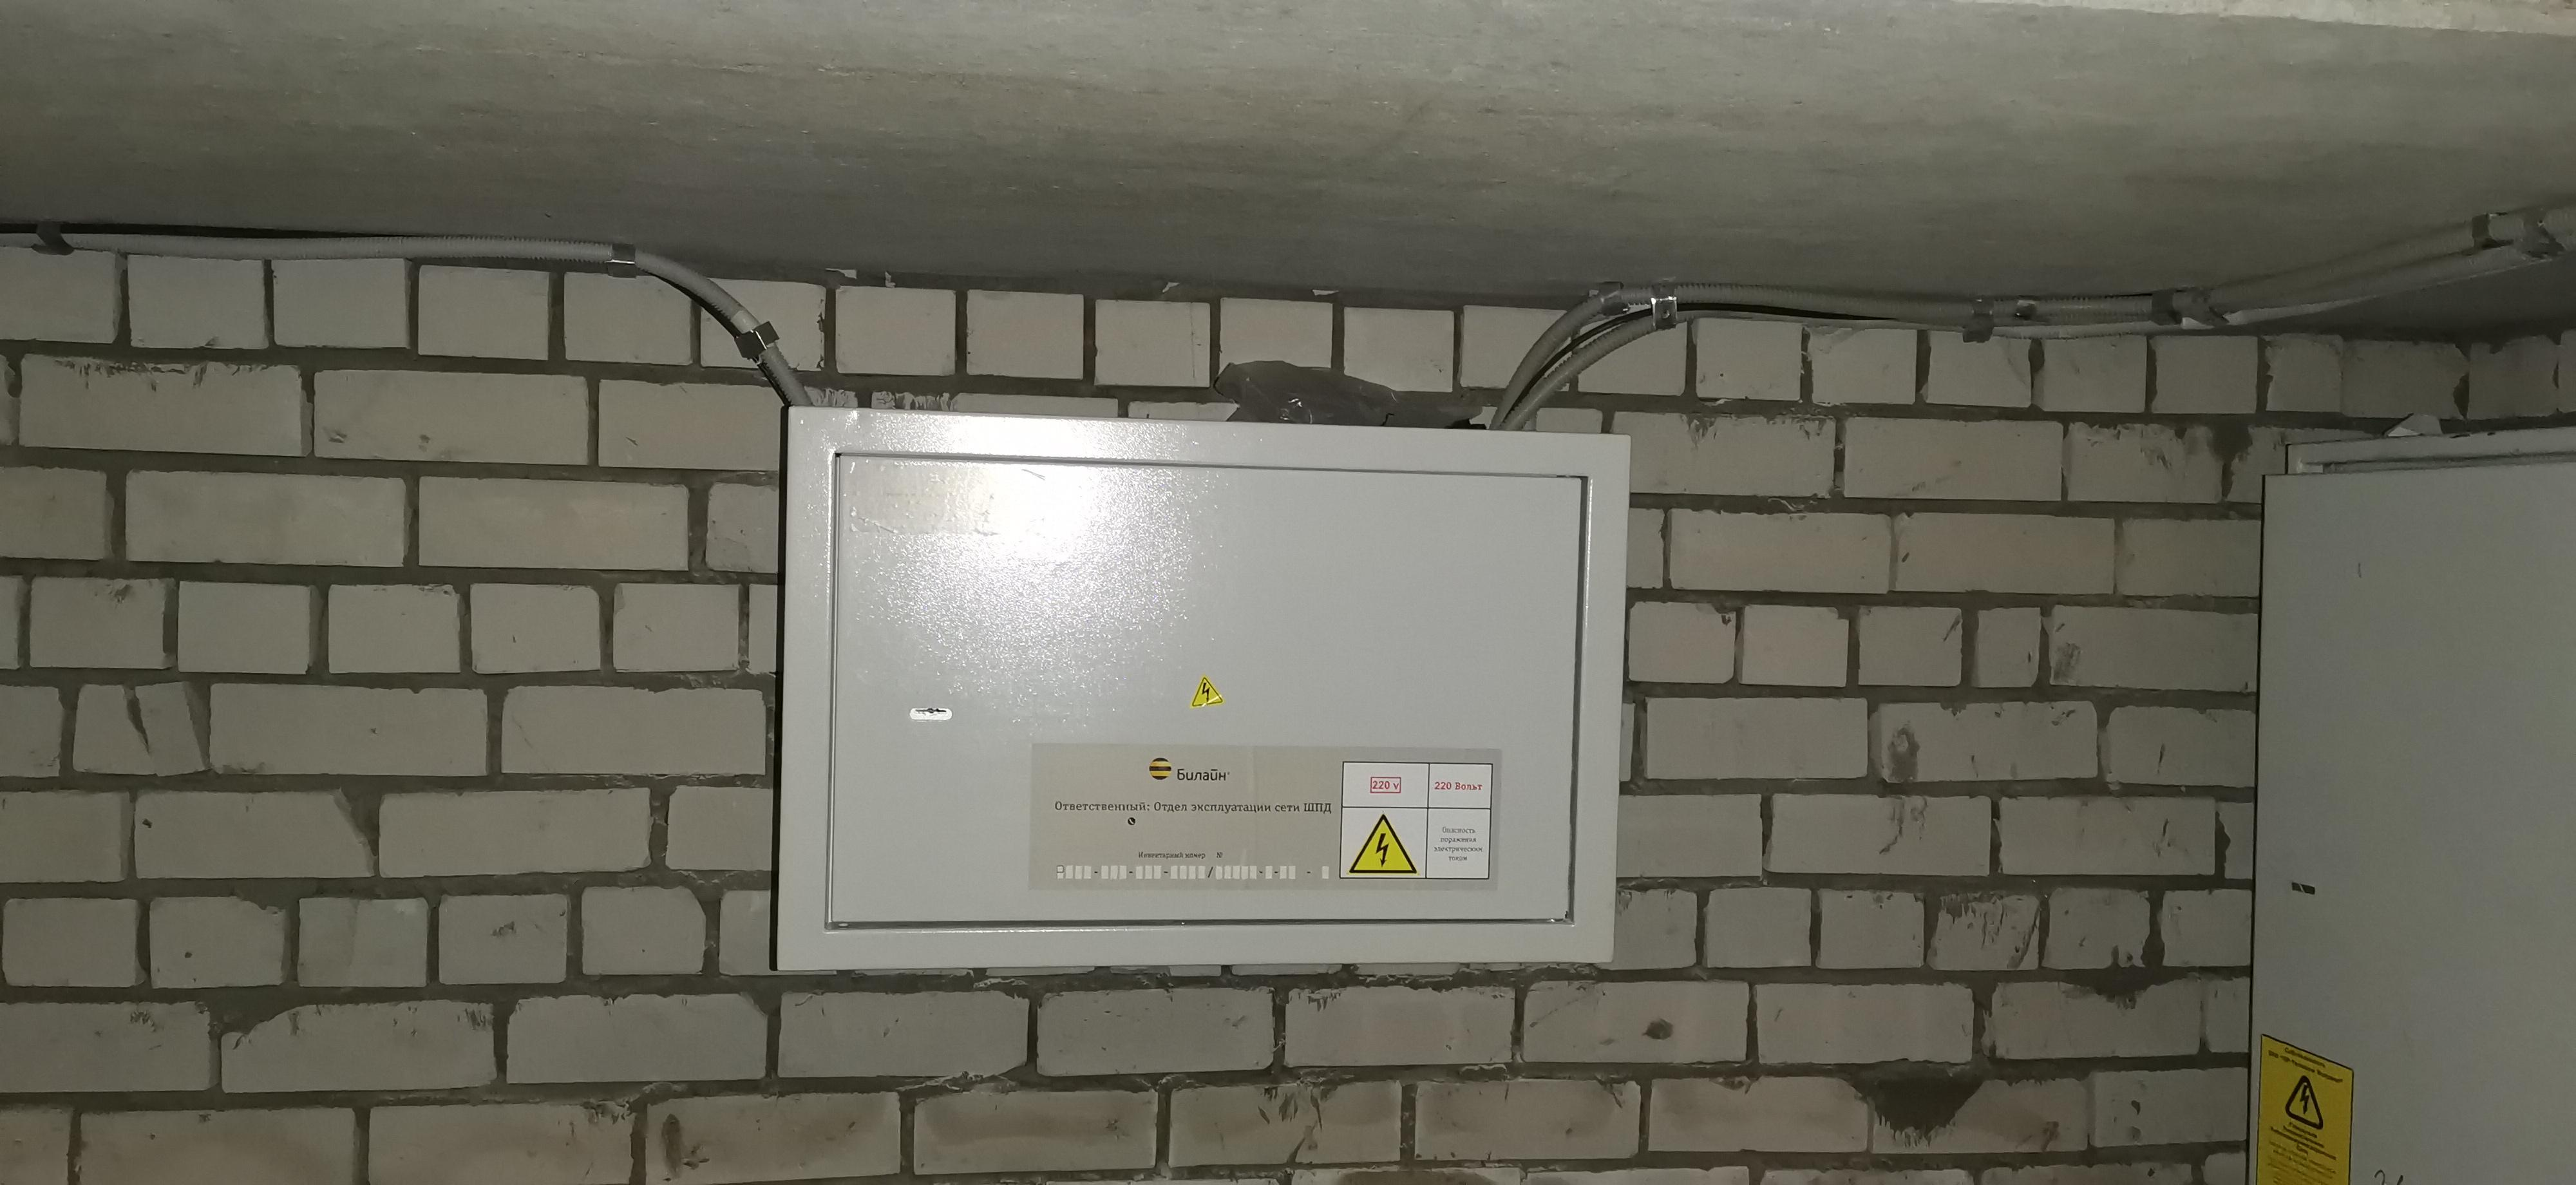shta-7m: (762, 386, 1641, 994)
